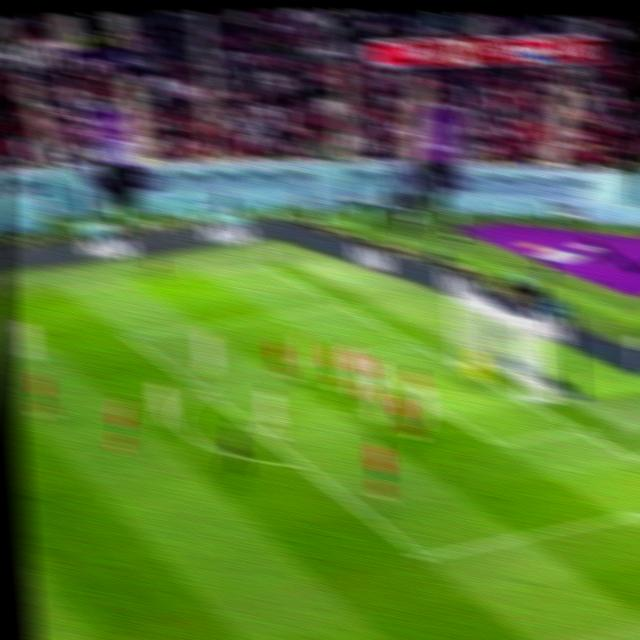bigarea_bottom_inner: (410, 540, 439, 571)
bigarea_top_inner: (119, 325, 145, 348)
bigarea_top_outter: (330, 294, 356, 315)
bottom_arc_area_intersection: (289, 452, 316, 476)
corner: (252, 256, 278, 274)
smallarea_bottom_inner: (482, 429, 513, 458)
smallarea_bottom_outter: (565, 415, 594, 441)
smallarea_top_outter: (404, 332, 430, 354)
top_arc_area_intersection: (189, 376, 216, 399)
